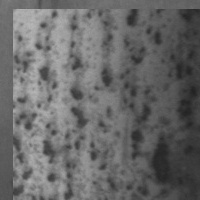inclusion: (121, 97, 161, 199), (35, 1, 64, 94), (110, 67, 129, 135)
pitted_surface: (13, 9, 200, 200)
